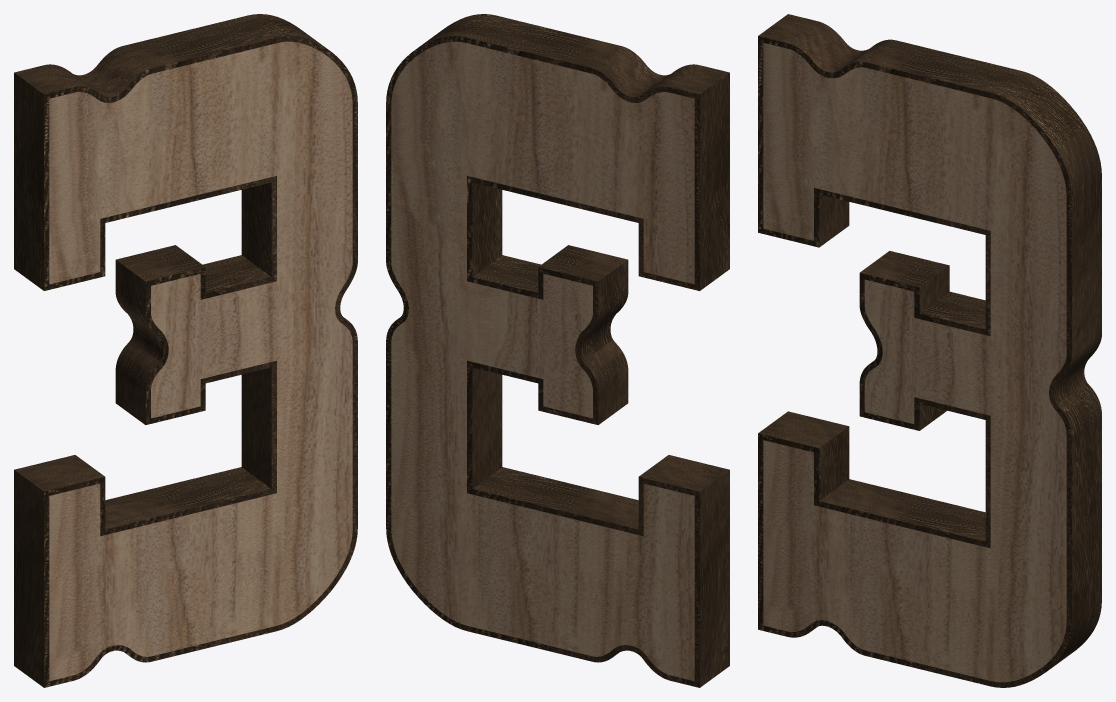
3 renders of one model, left to right at view 1: azimuth 30°, elevation 25°; view 2: azimuth 150°, elevation 25°; view 3: azimuth 330°, elevation 25°, orthographic.
Visible parts, largest first — view 1: 3, 3_outline; view 2: 3, 3_outline; view 3: 3, 3_outline.
Part boxes in pixels (x1,y1,x2,y2): 3: [49, 41, 352, 680]; 3_outline: [14, 14, 357, 687]; 3: [391, 41, 694, 680]; 3_outline: [386, 14, 729, 687]; 3: [763, 43, 1066, 682]; 3_outline: [758, 14, 1101, 687].
Size of the model in its own units: 60.2 by 109 by 10.
2 materials, 2 textured.
